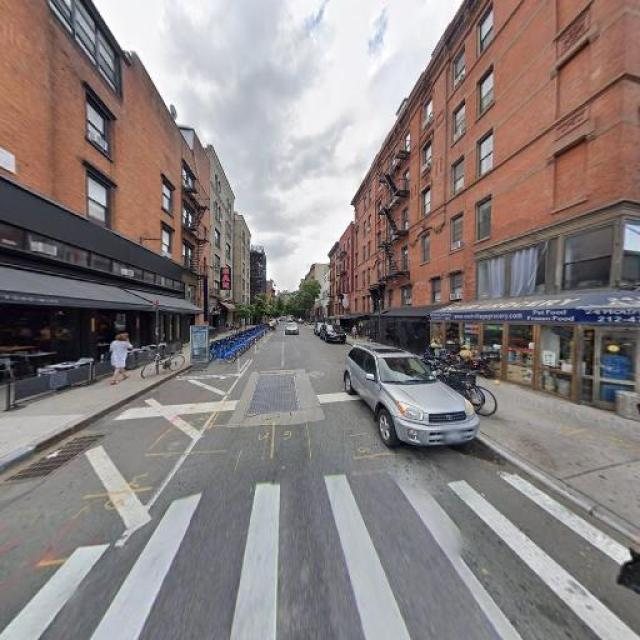Building: (355, 1, 640, 423), (1, 1, 208, 385)
